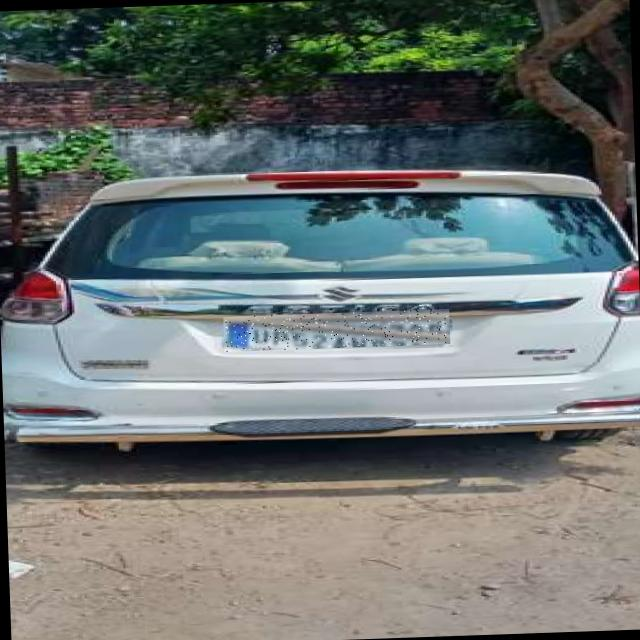Plate: (224, 310, 451, 353)
